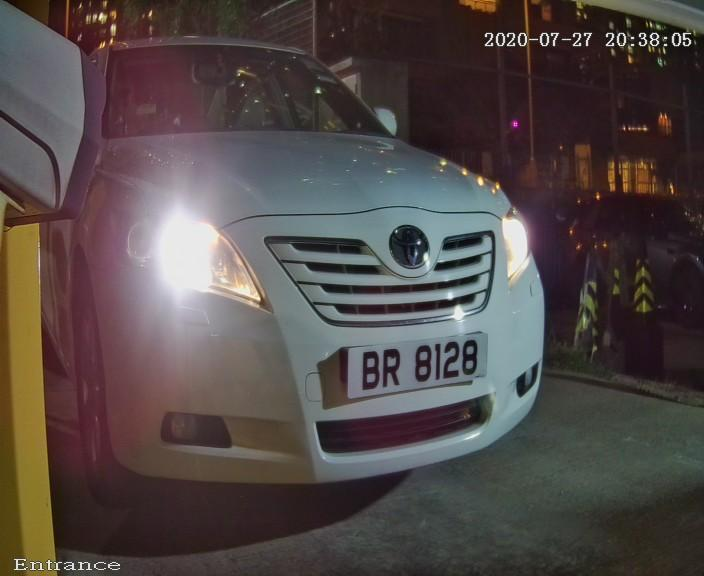privatecar: (57, 16, 576, 515)
